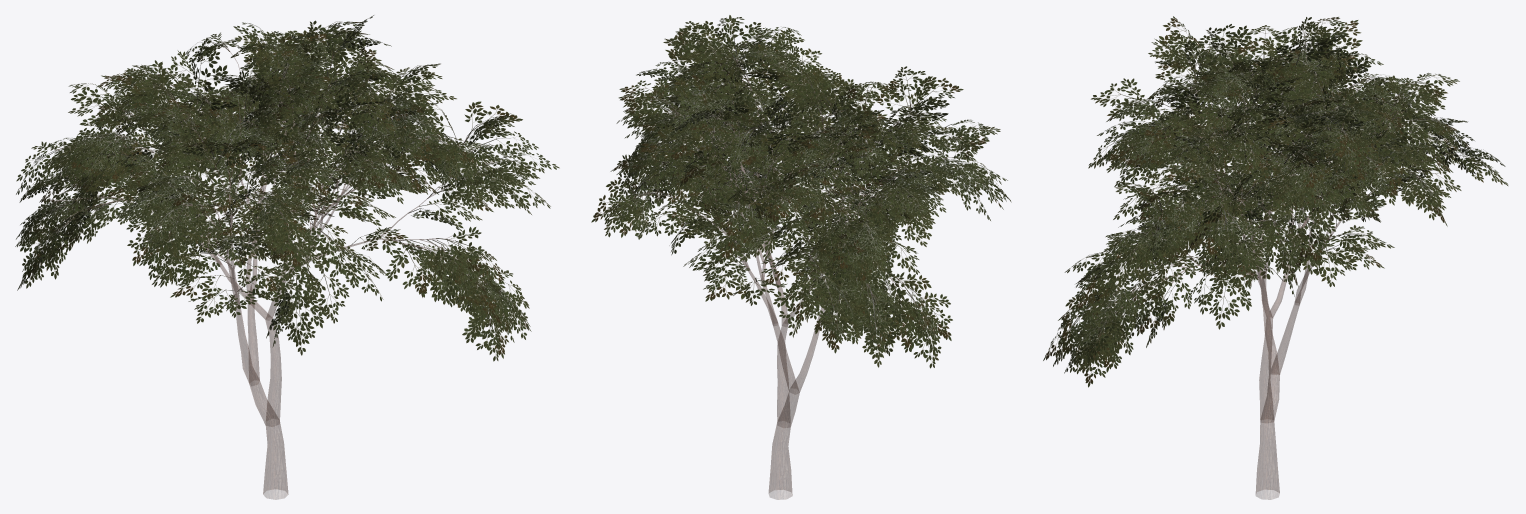
Rendered from tree_new4.glb.
3 renders of one model, left to right at view 1: azimuth 30°, elevation 25°; view 2: azimuth 150°, elevation 25°; view 3: azimuth 270°, elevation 25°, orthographic. The views are drawn at different scales.
Visible parts, largest first — view 1: Tree; view 2: Tree; view 3: Tree.
Boxes of the visible parts, x1,y1,x2,y2 form: Tree: (15,15,559,499); Tree: (591,15,1011,499); Tree: (1043,16,1508,499).
Bounding box in the file's own units: 3.63 × 3.82 × 3.55.
Materials: 2 (2 with a texture image).
